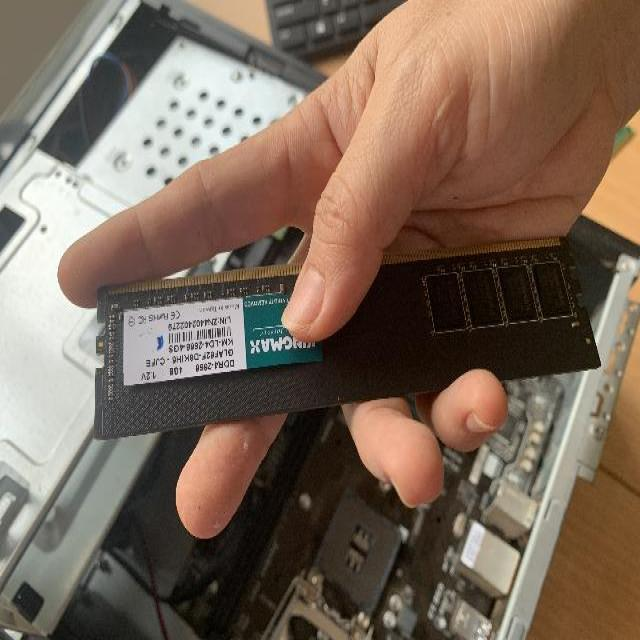RAM: (94, 231, 604, 440)
